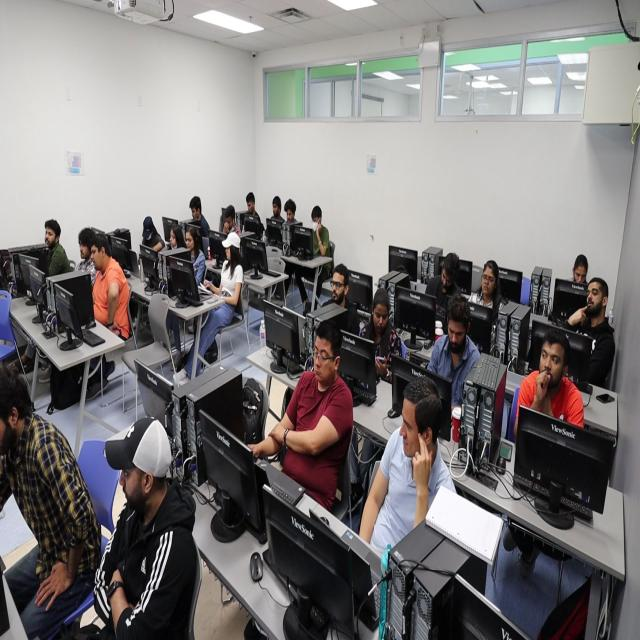Attentive: (118, 461, 145, 506), (539, 340, 563, 388), (586, 283, 604, 316), (481, 264, 497, 296), (330, 270, 345, 304), (45, 228, 55, 246), (79, 240, 88, 259)
Distracted: (398, 396, 424, 458), (314, 335, 336, 382), (447, 316, 465, 354), (372, 302, 388, 332), (90, 245, 102, 270), (440, 267, 452, 291), (574, 266, 586, 286), (169, 229, 178, 248), (185, 232, 194, 250), (225, 246, 232, 260)
Sleepy: (225, 216, 233, 231)
